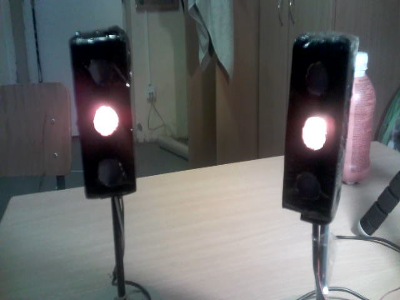trafficlight_red: (282, 42, 352, 204), (78, 41, 134, 188)
